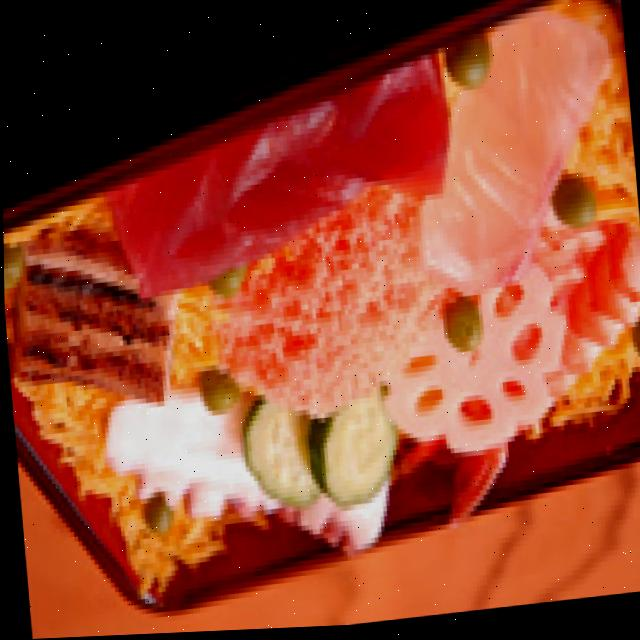寿司卷物: (0, 3, 637, 630)
